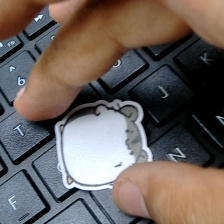mouse: (51, 94, 159, 199)
